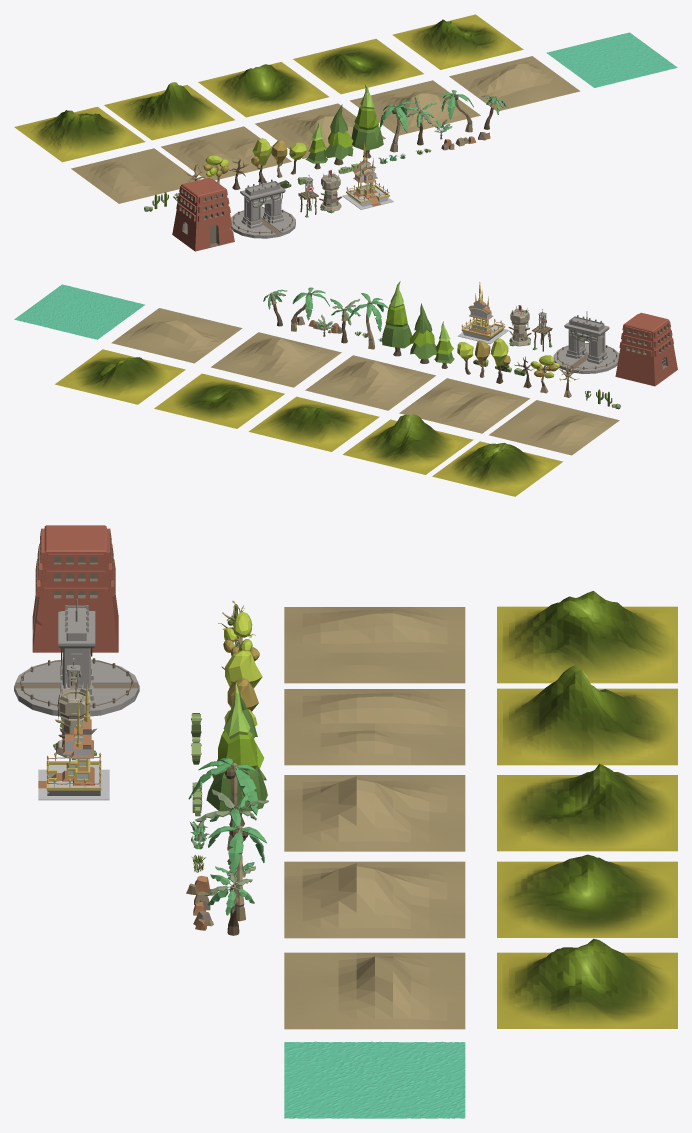
The picture shows the model from 3 angles, top to bottom: view 1: azimuth 30°, elevation 25°; view 2: azimuth 150°, elevation 25°; view 3: azimuth 270°, elevation 25°; orthographic projection. The views are drawn at different scales.
Parts seen in each view (by area): view 1: Hill_2, Hill_1, Hill_3, Hill_5, Water, Hill_4, Hill_10, Hill_6, Buildings_4, Hill_9, Hill_7, Buildings_5 (+12 smaller); view 2: Hill_2, Hill_1, Hill_5, Hill_3, Hill_4, Water, Hill_8, Hill_6, Hill_10, Hill_7, Hill_9, Buildings_4 (+13 smaller); view 3: Hill_2, Hill_5, Hill_1, Hill_7, Hill_6, Hill_3, Hill_4, Water, Hill_8, Hill_10, Hill_9, Buildings_4 (+9 smaller).
Boxes of the visible parts, left/top/right/bottom form: Hill_2: left=104, top=82, right=234, bottom=140; Hill_1: left=14, top=106, right=145, bottom=162; Hill_3: left=198, top=62, right=329, bottom=117; Hill_5: left=392, top=14, right=523, bottom=69; Water: left=546, top=32, right=677, bottom=87; Hill_4: left=293, top=39, right=423, bottom=94; Hill_10: left=71, top=148, right=194, bottom=203; Hill_6: left=449, top=56, right=579, bottom=111; Buildings_4: left=172, top=177, right=234, bottom=251; Hill_9: left=161, top=126, right=291, bottom=180; Hill_7: left=350, top=80, right=480, bottom=135; Buildings_5: left=231, top=175, right=295, bottom=238; Hill_2: left=342, top=414, right=473, bottom=474; Hill_1: left=432, top=441, right=562, bottom=496; Hill_5: left=55, top=349, right=185, bottom=404; Hill_3: left=248, top=396, right=379, bottom=451; Hill_4: left=154, top=373, right=284, bottom=428; Water: left=14, top=284, right=144, bottom=339; Hill_8: left=305, top=355, right=435, bottom=410; Hill_6: left=111, top=308, right=242, bottom=363; Hill_10: left=489, top=400, right=619, bottom=455; Hill_7: left=211, top=332, right=341, bottom=387; Hill_9: left=399, top=378, right=529, bottom=433; Buildings_4: left=615, top=312, right=677, bottom=386; Hill_2: left=497, top=665, right=677, bottom=765; Hill_5: left=497, top=938, right=677, bottom=1028; Hill_1: left=497, top=591, right=677, bottom=683; Hill_7: left=284, top=861, right=465, bottom=938; Hill_6: left=284, top=952, right=465, bottom=1029; Hill_3: left=497, top=763, right=677, bottom=851; Hill_4: left=497, top=854, right=677, bottom=937; Water: left=284, top=1041, right=465, bottom=1118; Hill_8: left=284, top=775, right=465, bottom=851; Hill_10: left=284, top=607, right=465, bottom=683; Hill_9: left=284, top=689, right=465, bottom=765; Buildings_4: left=32, top=525, right=118, bottom=652.
Bounding box in the file's own units: 10335 × 1344 × 5672.
26 materials, 2 textured.
